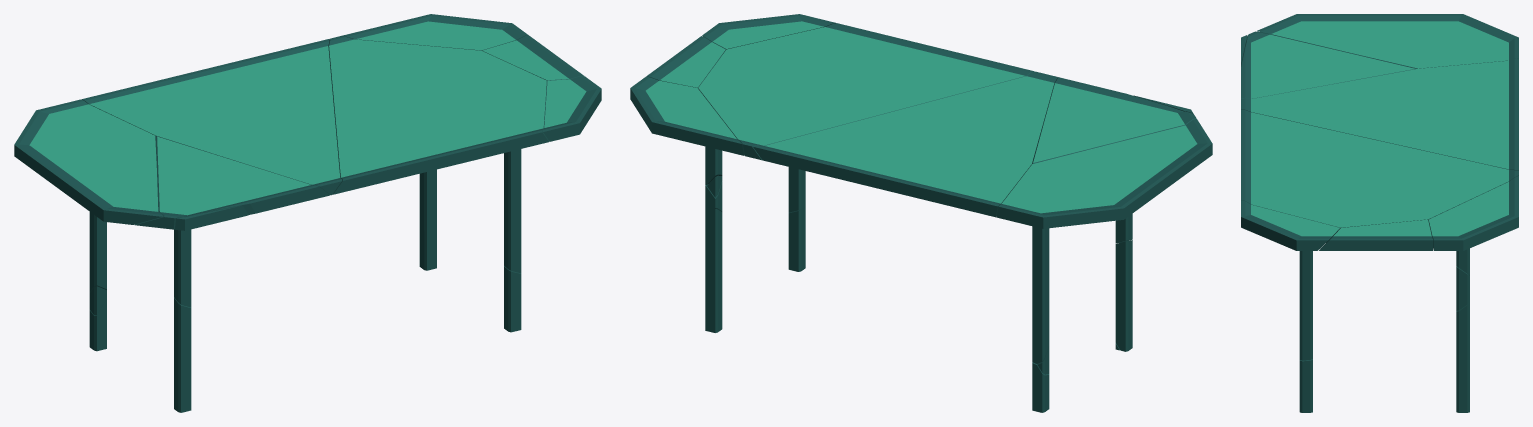
Rendered from MesaCocina_Roto.fbx.
3 renders of one model, left to right at view 1: azimuth 30°, elevation 25°; view 2: azimuth 150°, elevation 25°; view 3: azimuth 270°, elevation 25°, orthographic. The views are drawn at different scales.
Visible parts, largest first — view 1: MesaCocina.001_cell.004, MesaCocina.001_cell.010, MesaCocina.001_cell.002, MesaCocina.001_cell.011, MesaCocina.001_cell.005, MesaCocina.001_cell.008, MesaCocina_cell.007, MesaCocina.001_cell.009, MesaCocina_cell, MesaCocina_cell.001, MesaCocina_cell.005, MesaCocina_cell.002 (+3 smaller); view 2: MesaCocina.001_cell.004, MesaCocina.001_cell.010, MesaCocina.001_cell.002, MesaCocina.001_cell.011, MesaCocina.001_cell.005, MesaCocina.001_cell.008, MesaCocina_cell.002, MesaCocina_cell.001, MesaCocina_cell.007, MesaCocina.001_cell.009, MesaCocina_cell.004, MesaCocina_cell.008 (+2 smaller); view 3: MesaCocina.001_cell.004, MesaCocina.001_cell.010, MesaCocina.001_cell.002, MesaCocina.001_cell.011, MesaCocina.001_cell.005, MesaCocina.001_cell.009, MesaCocina.001_cell.008, MesaCocina_cell, MesaCocina_cell.001, MesaCocina_cell.004, MesaCocina_cell.009, MesaCocina_cell.012.
Part boxes in pixels (x1=…): MesaCocina.001_cell.004: x1=328, y1=36, x2=549, y2=194; MesaCocina.001_cell.010: x1=82, y1=39, x2=341, y2=195; MesaCocina.001_cell.002: x1=14, y1=99, x2=162, y2=224; MesaCocina.001_cell.011: x1=135, y1=136, x2=330, y2=229; MesaCocina.001_cell.005: x1=340, y1=14, x2=527, y2=50; MesaCocina.001_cell.008: x1=543, y1=76, x2=601, y2=141; MesaCocina_cell.007: x1=89, y1=286, x2=191, y2=412; MesaCocina.001_cell.009: x1=482, y1=35, x2=583, y2=80; MesaCocina_cell: x1=504, y1=149, x2=521, y2=273; MesaCocina_cell.001: x1=419, y1=169, x2=436, y2=270; MesaCocina_cell.005: x1=174, y1=229, x2=191, y2=307; MesaCocina_cell.002: x1=89, y1=212, x2=106, y2=292; MesaCocina.001_cell.004: x1=698, y1=23, x2=1034, y2=160; MesaCocina.001_cell.010: x1=753, y1=71, x2=1057, y2=217; MesaCocina.001_cell.002: x1=996, y1=119, x2=1212, y2=228; MesaCocina.001_cell.011: x1=1031, y1=77, x2=1196, y2=165; MesaCocina.001_cell.005: x1=630, y1=76, x2=743, y2=155; MesaCocina.001_cell.008: x1=702, y1=14, x2=835, y2=49; MesaCocina_cell.002: x1=1032, y1=226, x2=1049, y2=363; MesaCocina_cell.001: x1=705, y1=209, x2=722, y2=332; MesaCocina_cell.007: x1=1037, y1=240, x2=1132, y2=374; MesaCocina.001_cell.009: x1=646, y1=36, x2=725, y2=88; MesaCocina_cell.004: x1=788, y1=207, x2=805, y2=271; MesaCocina_cell.008: x1=1032, y1=343, x2=1119, y2=412; MesaCocina.001_cell.004: x1=1241, y1=109, x2=1518, y2=236; MesaCocina.001_cell.010: x1=1241, y1=58, x2=1518, y2=170; MesaCocina.001_cell.002: x1=1257, y1=14, x2=1518, y2=68; MesaCocina.001_cell.011: x1=1241, y1=31, x2=1417, y2=98; MesaCocina.001_cell.005: x1=1428, y1=176, x2=1518, y2=250; MesaCocina.001_cell.009: x1=1319, y1=219, x2=1432, y2=250; MesaCocina.001_cell.008: x1=1241, y1=200, x2=1339, y2=250; MesaCocina_cell: x1=1299, y1=251, x2=1312, y2=360; MesaCocina_cell.001: x1=1456, y1=301, x2=1469, y2=412; MesaCocina_cell.004: x1=1299, y1=359, x2=1312, y2=412; MesaCocina_cell.009: x1=1456, y1=266, x2=1469, y2=310; MesaCocina_cell.012: x1=1456, y1=248, x2=1469, y2=274.
Size of the model in its own units: 166 by 71.06 by 86.04.
